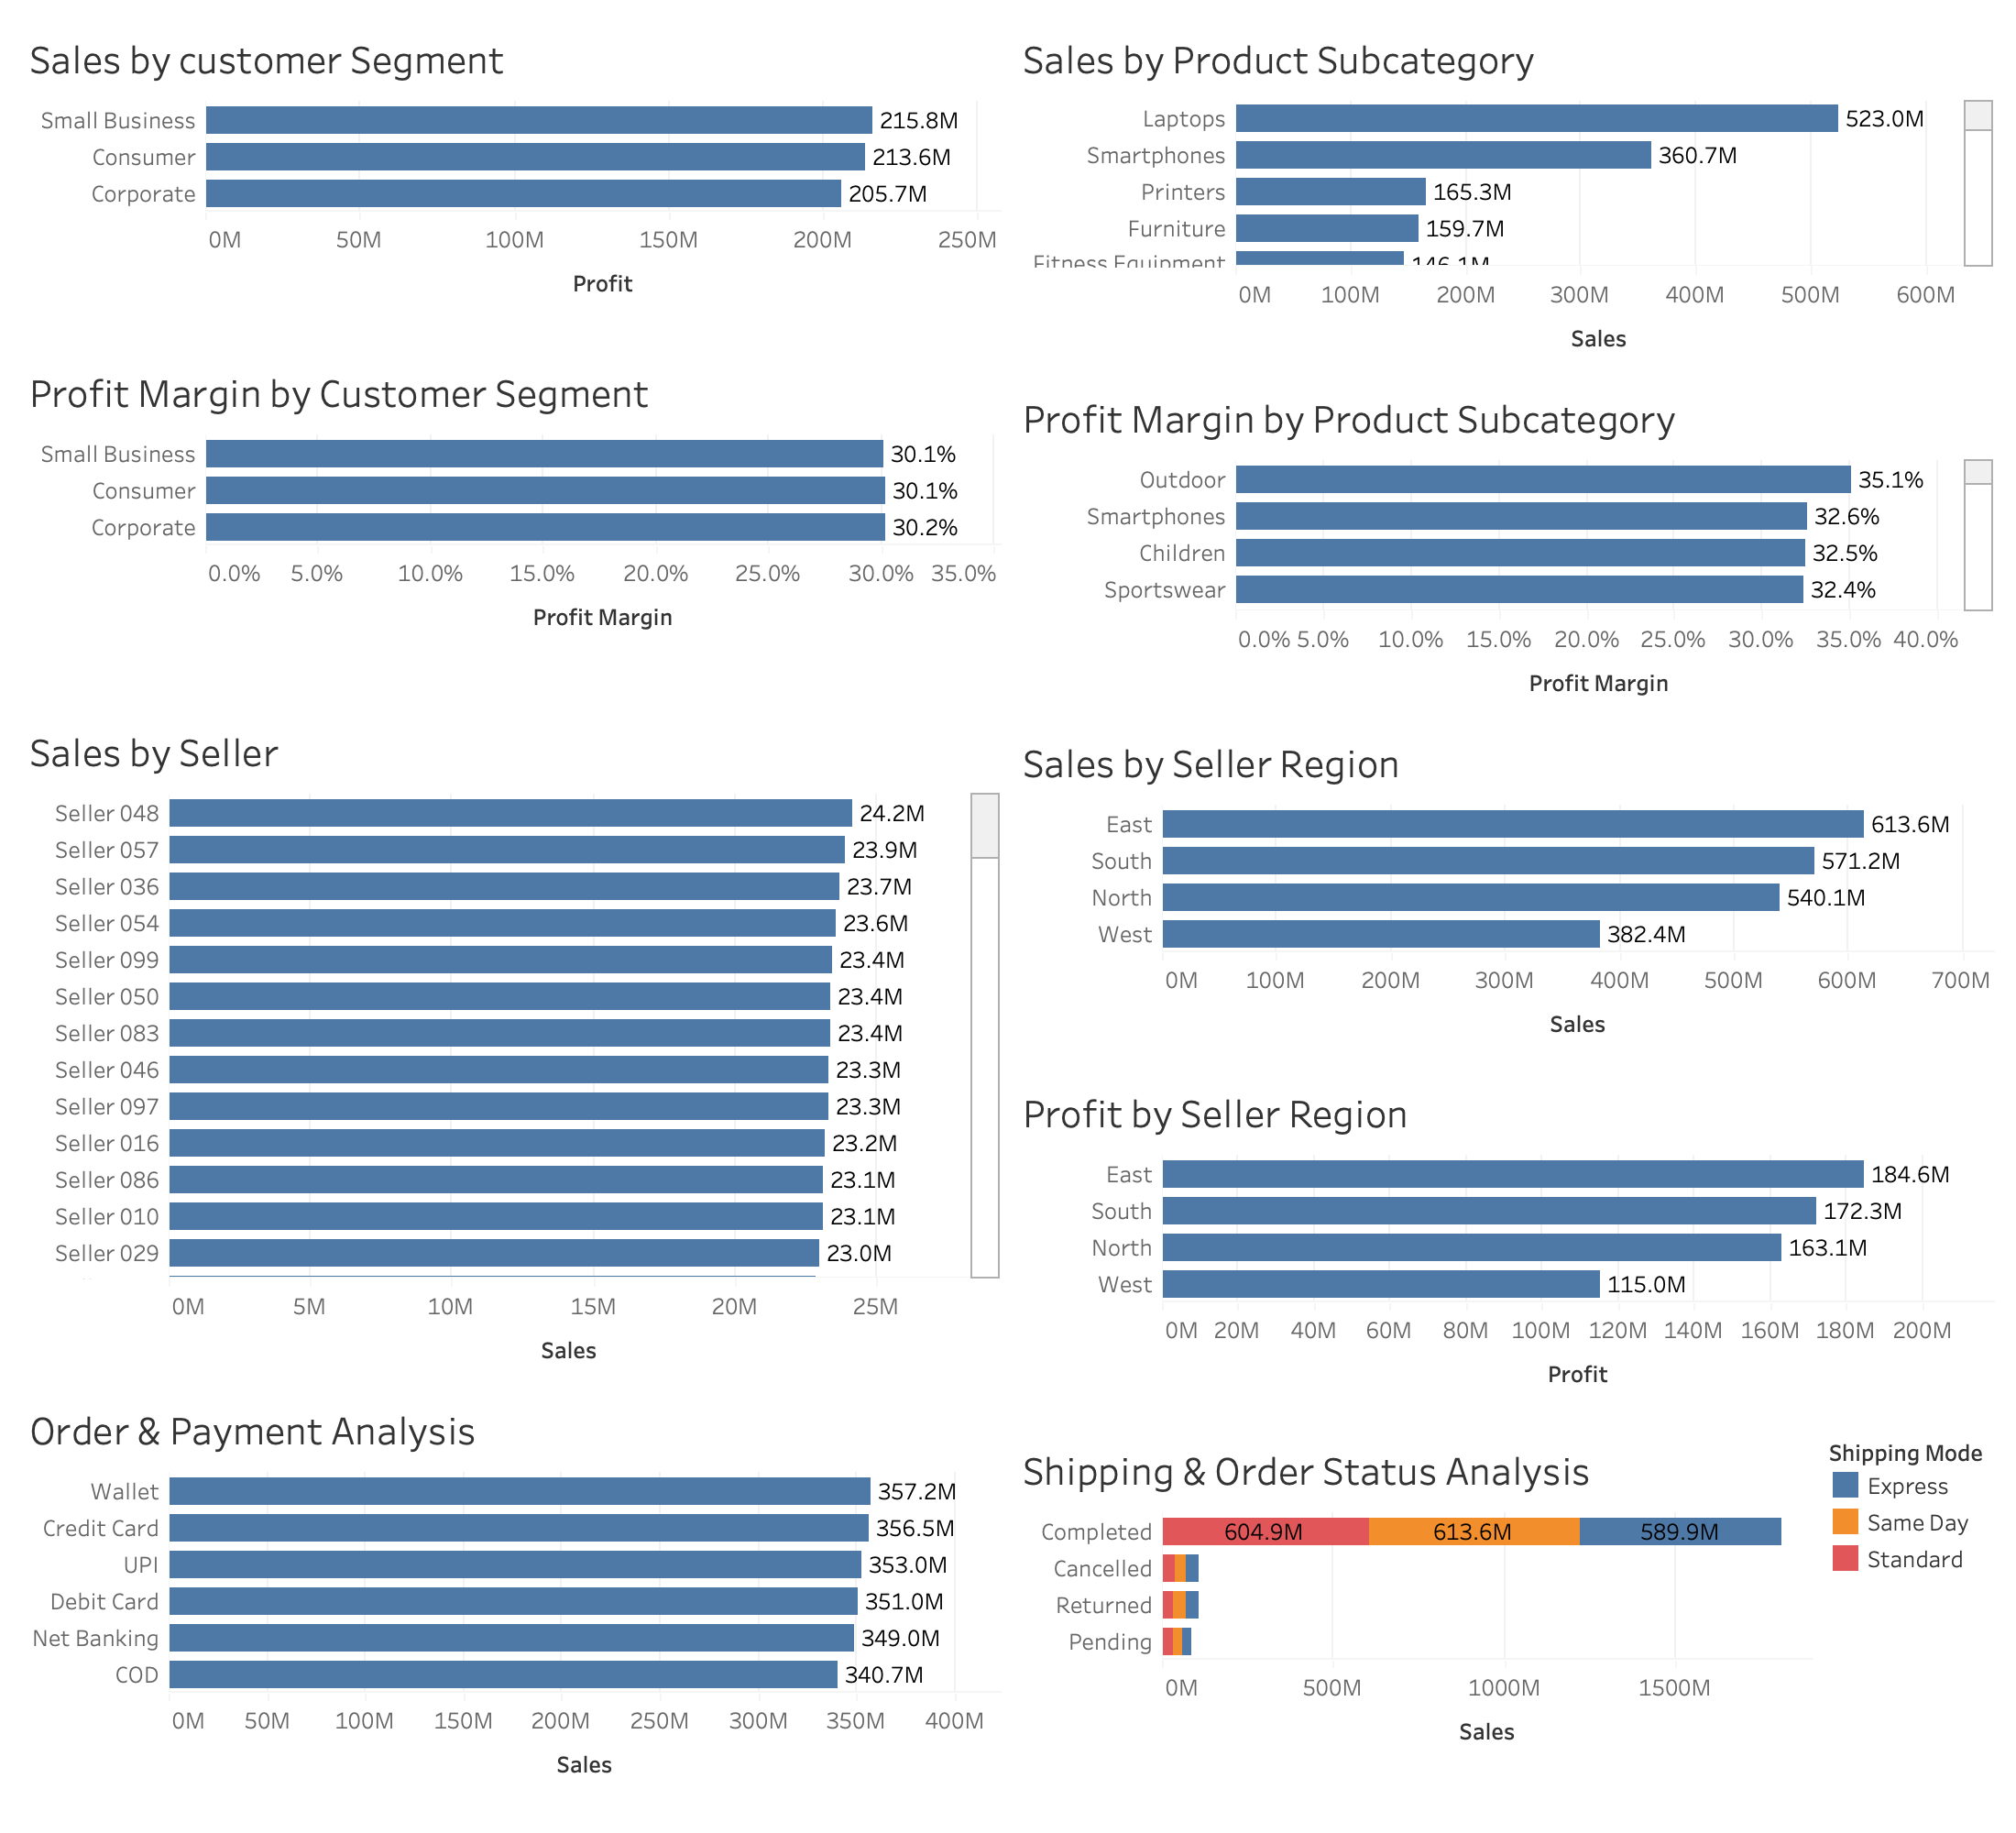

The dashboard page shown, as its layout file describes it:
{"tool":"tableau","page":{"name":"Detailed Performance Dashboard","canvas":[1100,1000],"ordinal":0},"visuals":[{"type":"worksheet","title":"Sales by customer Segment","mark":"Automatic","rows":["Customer_Segment"],"cols":["Profit"],"box":[8,8,542,182.3]},{"type":"worksheet","title":"Sales by Product Subcategory","mark":"Automatic","rows":["Subcategory"],"cols":["Sales"],"box":[550,8,542,196]},{"type":"worksheet","title":"Profit Margin by Customer Segment","mark":"Automatic","rows":["Customer_Segment"],"cols":["Calculation_1203932672573440"],"box":[8,190.3,542,196.1]},{"type":"worksheet","title":"Profit Margin by Product Subcategory","mark":"Automatic","rows":["Subcategory"],"cols":["Calculation_1203932672573440"],"box":[550,204,542,188.1]},{"type":"worksheet","title":"Sales by Seller","mark":"Automatic","rows":["Seller_Name"],"cols":["Sales"],"box":[8,386.4,542,369.6]},{"type":"worksheet","title":"Sales by Seller Region","mark":"Automatic","rows":["Seller_Region"],"cols":["Sales"],"box":[550,392.1,542,191.3]},{"type":"worksheet","title":"Profit by Seller Region","mark":"Automatic","rows":["Seller_Region"],"cols":["Profit"],"box":[550,583.4,542,194.6]},{"type":"worksheet","title":"Order & Payment Analysis","mark":"Automatic","rows":["Payment_Method"],"cols":["Sales"],"box":[8,756,542,236]},{"type":"worksheet","title":"Shipping & Order Status Analysis","mark":"Automatic","rows":["Order_Status"],"cols":["Sales"],"box":[550,778,442.8,214]},{"type":"legend","title":"Shipping & Order Status Analysis","param":"[federated.08g3x1d0i65m8o1e076fn1nbmnd8].[none:Shipping_Mode:nk]","box":[992.8,778,99.2,214]}]}

Visuals, with their boxes in screenshot pixels (x1, y1, x2, y2), scaled from the page's 1100x1000 canvas onto the 2016x1833 screenshot:
"Sales by customer Segment" worksheet: <bbox>15, 15, 1008, 349</bbox>
"Sales by Product Subcategory" worksheet: <bbox>1008, 15, 2001, 374</bbox>
"Profit Margin by Customer Segment" worksheet: <bbox>15, 349, 1008, 708</bbox>
"Profit Margin by Product Subcategory" worksheet: <bbox>1008, 374, 2001, 719</bbox>
"Sales by Seller" worksheet: <bbox>15, 708, 1008, 1386</bbox>
"Sales by Seller Region" worksheet: <bbox>1008, 719, 2001, 1070</bbox>
"Profit by Seller Region" worksheet: <bbox>1008, 1070, 2001, 1426</bbox>
"Order & Payment Analysis" worksheet: <bbox>15, 1386, 1008, 1818</bbox>
"Shipping & Order Status Analysis" worksheet: <bbox>1008, 1426, 1820, 1818</bbox>
"Shipping & Order Status Analysis" legend: <bbox>1820, 1426, 2001, 1818</bbox>
